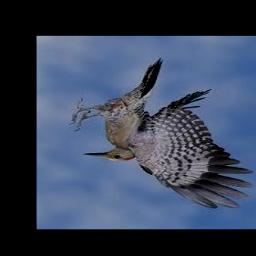Woodpecker: (69, 58, 253, 208)
